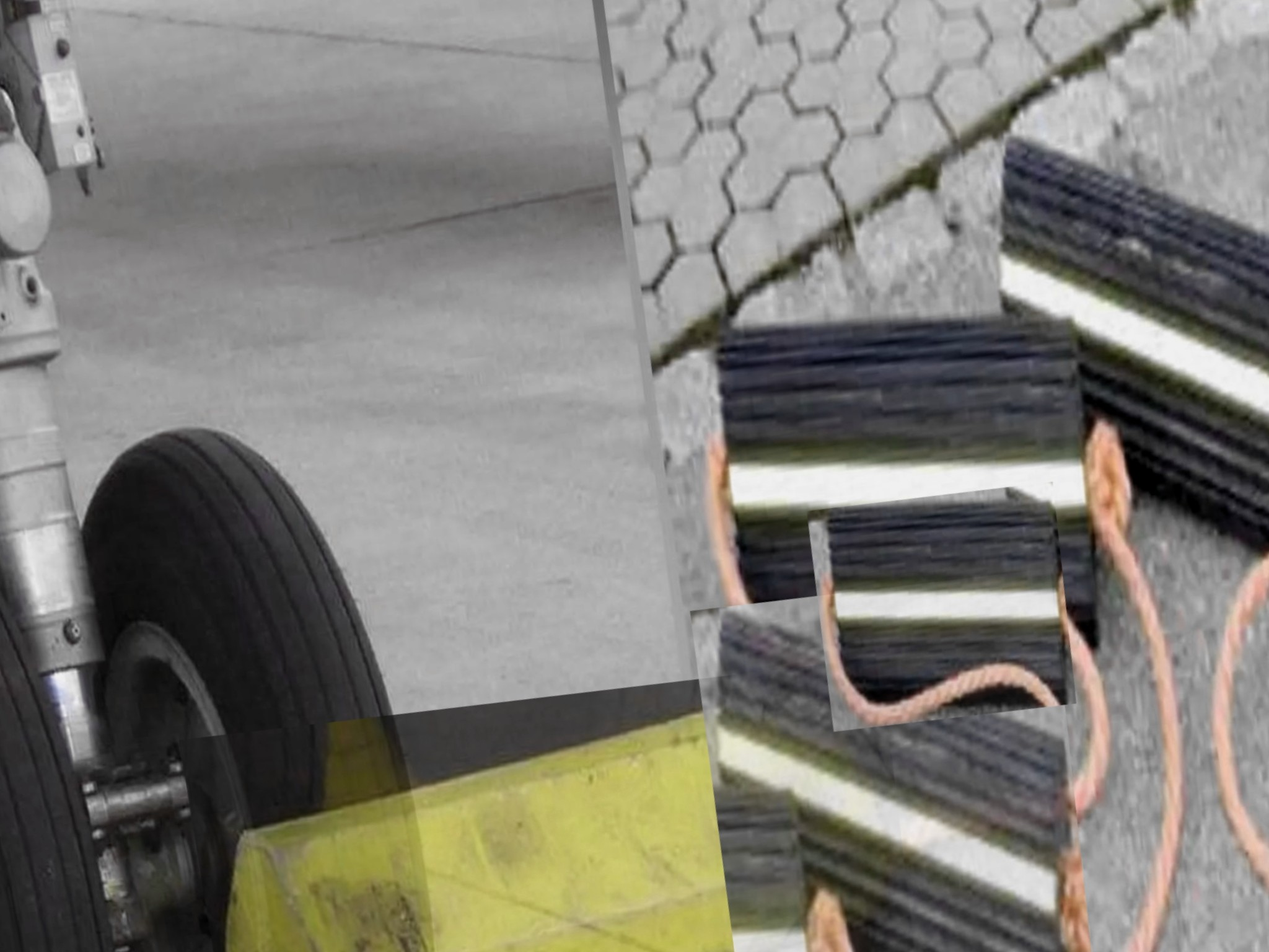chock: (156, 595, 957, 952), (648, 251, 1160, 722), (645, 537, 1156, 952), (922, 60, 1269, 614), (783, 460, 1105, 753)
wheel: (0, 379, 536, 952), (0, 460, 228, 952)
